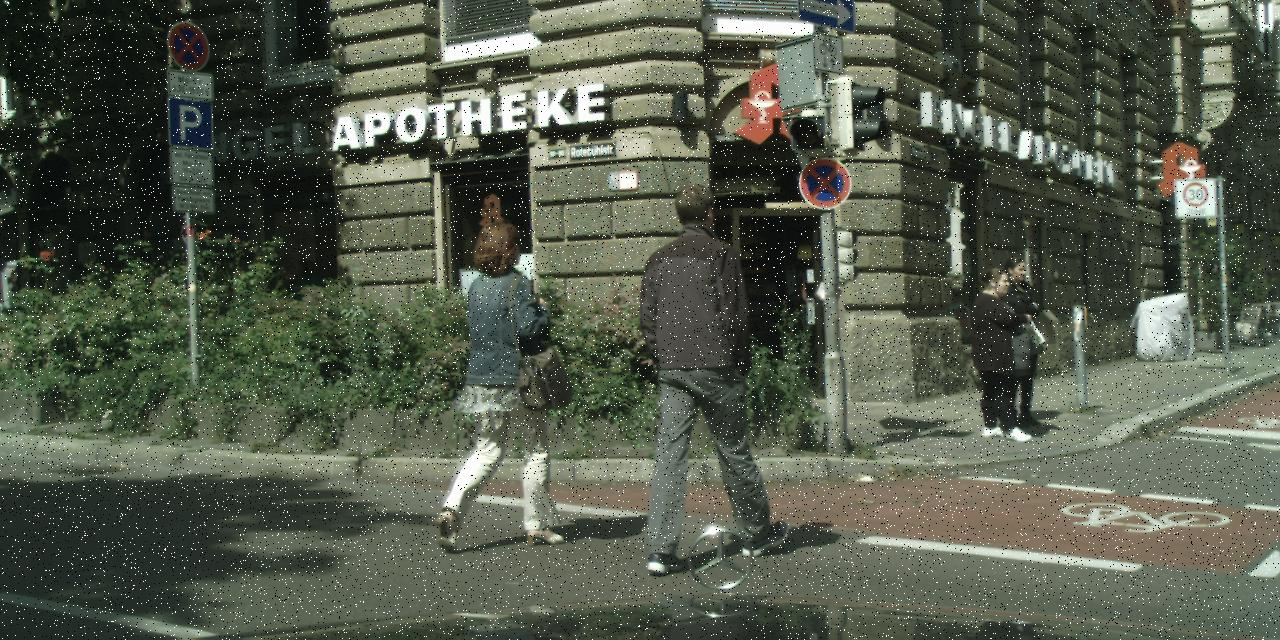ped: (626, 184, 780, 560), (430, 220, 560, 541), (963, 268, 1033, 438), (982, 256, 1052, 425)
